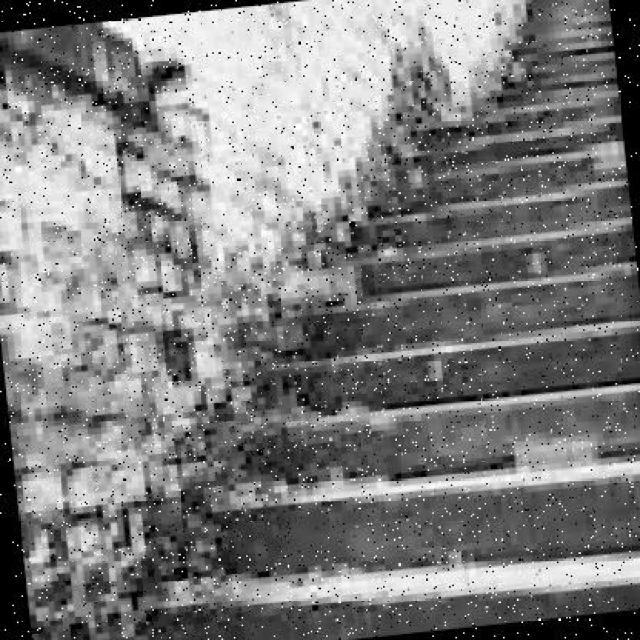Stairs: (114, 14, 634, 612)
